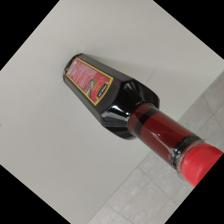Namngu: (62, 53, 224, 189)
